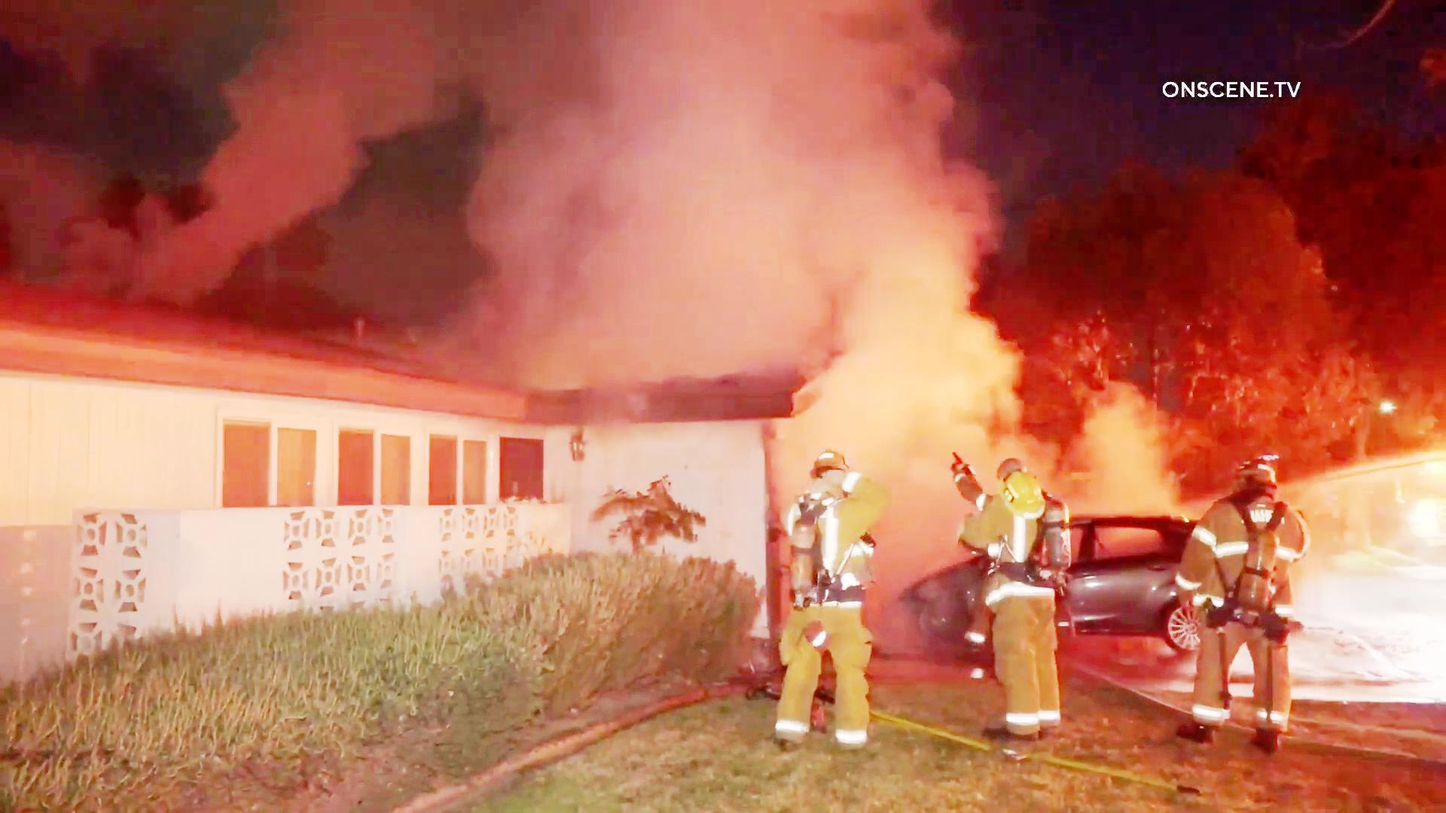smoke: (15, 2, 1157, 383), (804, 363, 987, 451)
